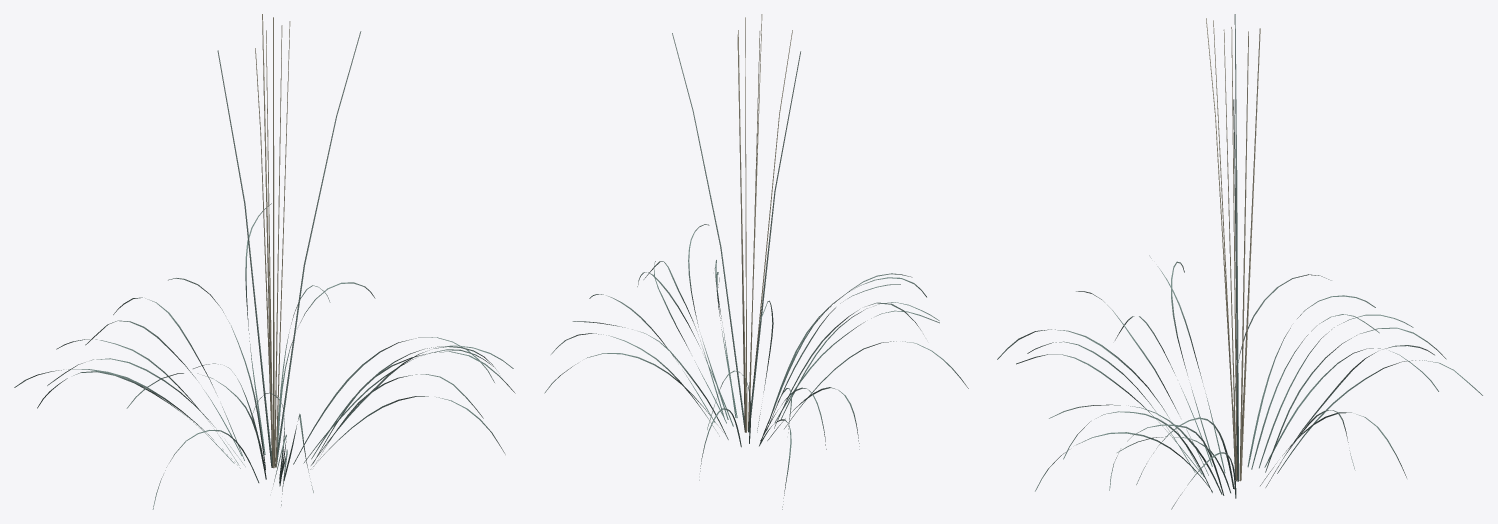
Rendered from Blue Oat Grass B.glb.
3 views of the same model, side by side, from view 1: azimuth 30°, elevation 25°; view 2: azimuth 150°, elevation 25°; view 3: azimuth 270°, elevation 25° (orthographic). The views are drawn at different scales.
Visible parts, largest first — view 1: Blue Oat Grass B; view 2: Blue Oat Grass B; view 3: Blue Oat Grass B.
Boxes of the visible parts, <box> form: Blue Oat Grass B: <box>14,14,515,509</box>; Blue Oat Grass B: <box>544,14,968,509</box>; Blue Oat Grass B: <box>997,14,1482,509</box>.
Bounding box in the file's own units: 0.7134 × 0.7734 × 0.7438.
